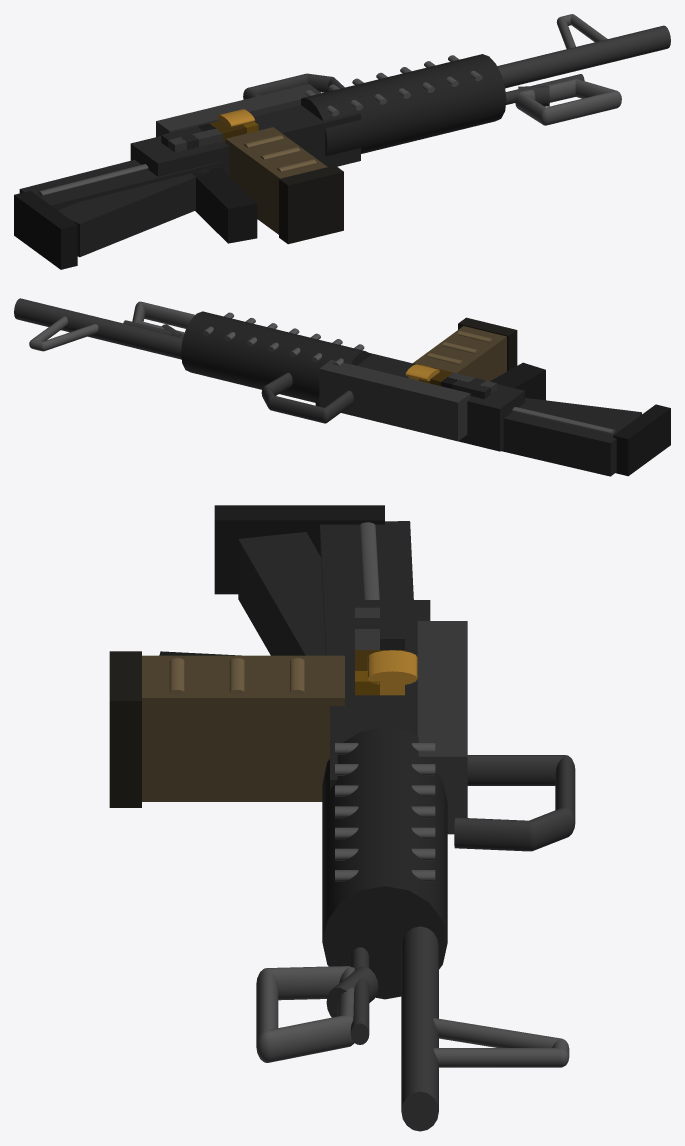
Rendered from CMU3DWorldRMCWeaponLMGM60Cloud.glb.
3 renders of one model, top to bottom at view 1: azimuth 30°, elevation 25°; view 2: azimuth 150°, elevation 25°; view 3: azimuth 270°, elevation 25°, orthographic. The views are drawn at different scales.
Visible parts, largest first — view 1: rounded ribbed handguard, tapered shoulder stock lower, receiver lower core, brown magazine box, magazine base, long exterior barrel, dark grip, rubber butt, fixed shoulder stock upper, upper receiver top cover, original receiver upper detail, folded default bipod frame member 3 (+7 smaller); view 2: rounded ribbed handguard, upper receiver top cover, fixed shoulder stock upper, long exterior barrel, receiver lower core, brown magazine box, rubber butt, dark grip, original receiver upper detail, tapered shoulder stock lower, magazine base, top carry handle open frame member 2 (+7 smaller); view 3: brown magazine box, rounded ribbed handguard, tapered shoulder stock lower, upper receiver top cover, long exterior barrel, receiver lower core, fixed shoulder stock upper, rubber butt, magazine base, original receiver upper detail, top carry handle open frame member 1, folded default bipod frame member 2 (+11 smaller).
Boxes of the visible parts, x1,y1,x2,y2 form: rounded ribbed handguard: [301, 54, 506, 156]; tapered shoulder stock lower: [58, 169, 209, 257]; receiver lower core: [130, 105, 360, 176]; brown magazine box: [225, 127, 327, 234]; magazine base: [279, 165, 343, 244]; long exterior barrel: [497, 25, 670, 88]; dark grip: [192, 167, 257, 243]; rubber butt: [14, 190, 77, 269]; fixed shoulder stock upper: [19, 159, 221, 210]; upper receiver top cover: [156, 84, 321, 136]; original receiver upper detail: [161, 120, 258, 152]; folded default bipod frame member 3: [545, 91, 618, 125]; rounded ribbed handguard: [181, 311, 370, 402]; upper receiver top cover: [319, 360, 470, 441]; fixed shoulder stock upper: [501, 401, 626, 476]; long exterior barrel: [14, 298, 182, 359]; receiver lower core: [315, 353, 524, 451]; brown magazine box: [412, 326, 506, 381]; rubber butt: [613, 404, 670, 476]; dark grip: [490, 362, 545, 400]; original receiver upper detail: [408, 364, 496, 399]; tapered shoulder stock lower: [525, 398, 641, 425]; magazine base: [458, 317, 517, 371]; top carry handle open frame member 2: [269, 395, 324, 423]; brown magazine box: [142, 655, 344, 801]; rounded ribbed handguard: [322, 727, 447, 999]; tapered shoulder stock lower: [238, 532, 325, 655]; upper receiver top cover: [417, 621, 467, 834]; long exterior barrel: [401, 926, 438, 1131]; receiver lower core: [330, 600, 430, 789]; fixed shoulder stock upper: [320, 521, 413, 655]; rubber butt: [214, 505, 384, 594]; magazine base: [109, 651, 141, 807]; original receiver upper detail: [355, 607, 404, 695]; top carry handle open frame member 1: [467, 755, 565, 785]; folded default bipod frame member 2: [267, 1015, 351, 1062].
Size of the model in its own units: 1.73 by 0.166 by 0.5813.
Materials: 9 (1 with a texture image).
